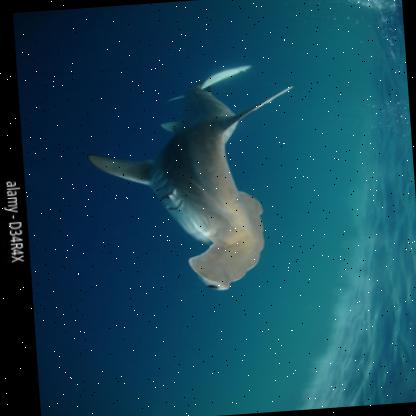hammerhead_Shark: (64, 51, 338, 306)
